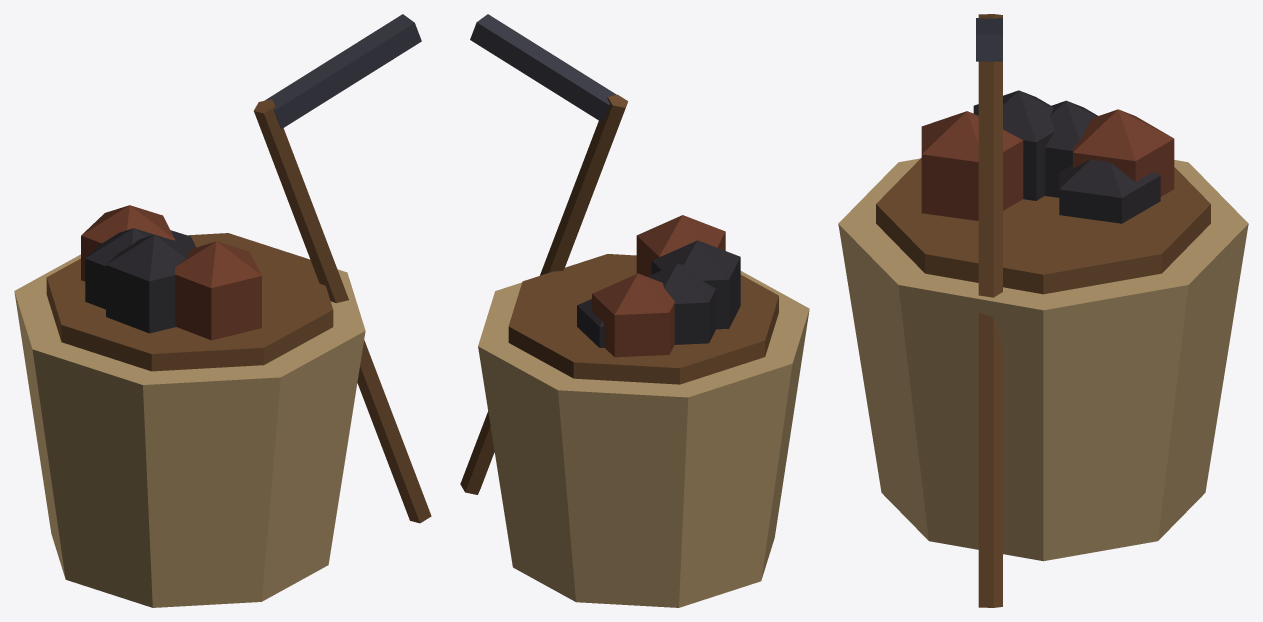
Rendered from soegol_ore_basket.glb.
3 views of the same model, side by side, from view 1: azimuth 30°, elevation 25°; view 2: azimuth 150°, elevation 25°; view 3: azimuth 270°, elevation 25° (orthographic). The views are drawn at different scales.
Visible parts, largest first — view 1: soegol_ore_basket; view 2: soegol_ore_basket; view 3: soegol_ore_basket.
Part boxes in pixels (box(x1,y1,x2,y2)): soegol_ore_basket: box(14, 14, 431, 607); soegol_ore_basket: box(460, 14, 809, 607); soegol_ore_basket: box(838, 14, 1248, 607).
Bounding box in the file's own units: 0.9023 × 1.16 × 0.76.
